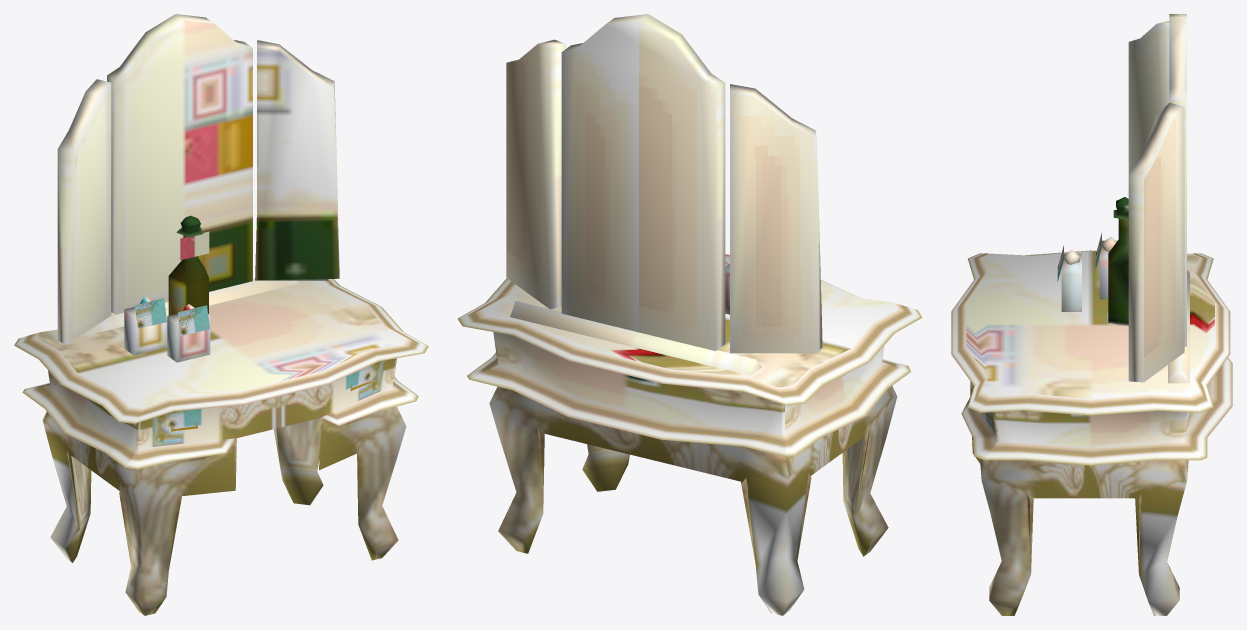
File: int_pri_dresser.dae
3 renders of one model, left to right at view 1: azimuth 30°, elevation 25°; view 2: azimuth 150°, elevation 25°; view 3: azimuth 270°, elevation 25°, orthographic. The views are drawn at different scales.
Parts seen in each view (by area): view 1: int_pri_dresser; view 2: int_pri_dresser; view 3: int_pri_dresser.
Boxes of the visible parts, x1=… form: int_pri_dresser: x1=14, y1=14, x2=428, y2=615; int_pri_dresser: x1=457, y1=14, x2=922, y2=615; int_pri_dresser: x1=951, y1=14, x2=1232, y2=615.
Size of the model in its own units: 30.8 by 46.7 by 22.2.
Materials: 3 (3 with a texture image).
